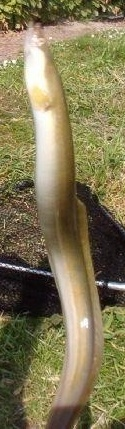Anguilla anguilla: (20, 20, 105, 429)
